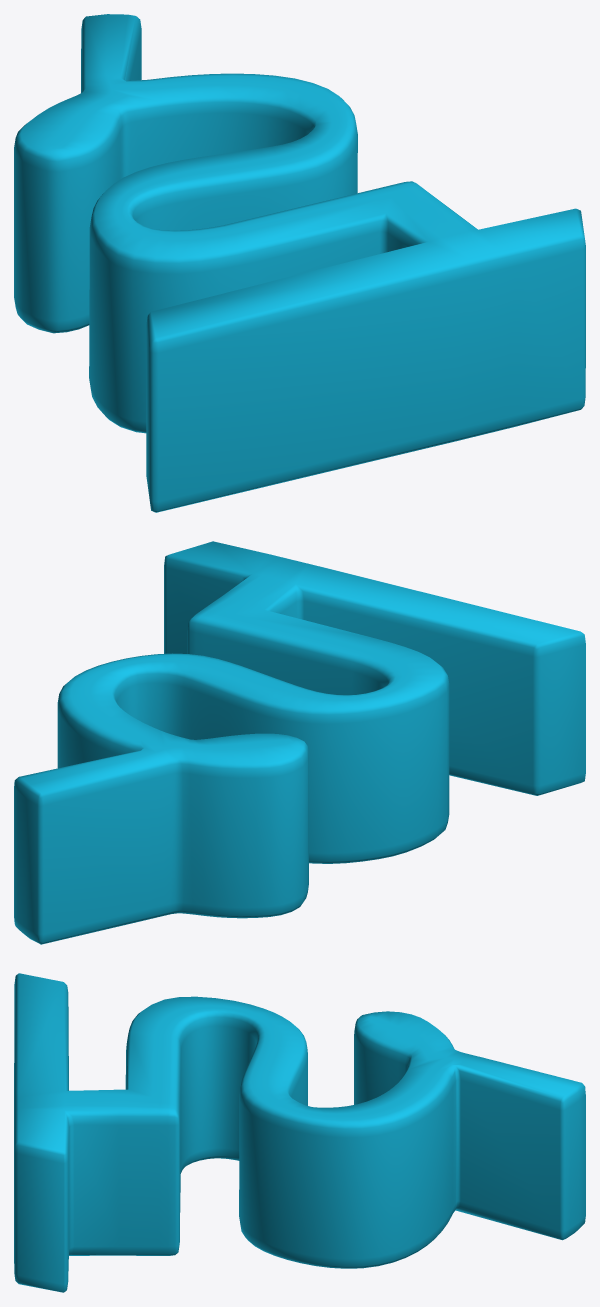
3 views of the same model, one above another, from view 1: azimuth 30°, elevation 25°; view 2: azimuth 150°, elevation 25°; view 3: azimuth 270°, elevation 25° (orthographic). The views are drawn at different scales.
Parts seen in each view (by area): view 1: 3D_Alphabets_Hindi_Language_02.003; view 2: 3D_Alphabets_Hindi_Language_02.003; view 3: 3D_Alphabets_Hindi_Language_02.003.
Part boxes in pixels (left/top/right/bottom): 3D_Alphabets_Hindi_Language_02.003: left=14, top=14, right=585, bottom=512; 3D_Alphabets_Hindi_Language_02.003: left=14, top=541, right=585, bottom=944; 3D_Alphabets_Hindi_Language_02.003: left=14, top=973, right=585, bottom=1292.
Size of the model in its own units: 0.5661 by 0.2132 by 0.751.
